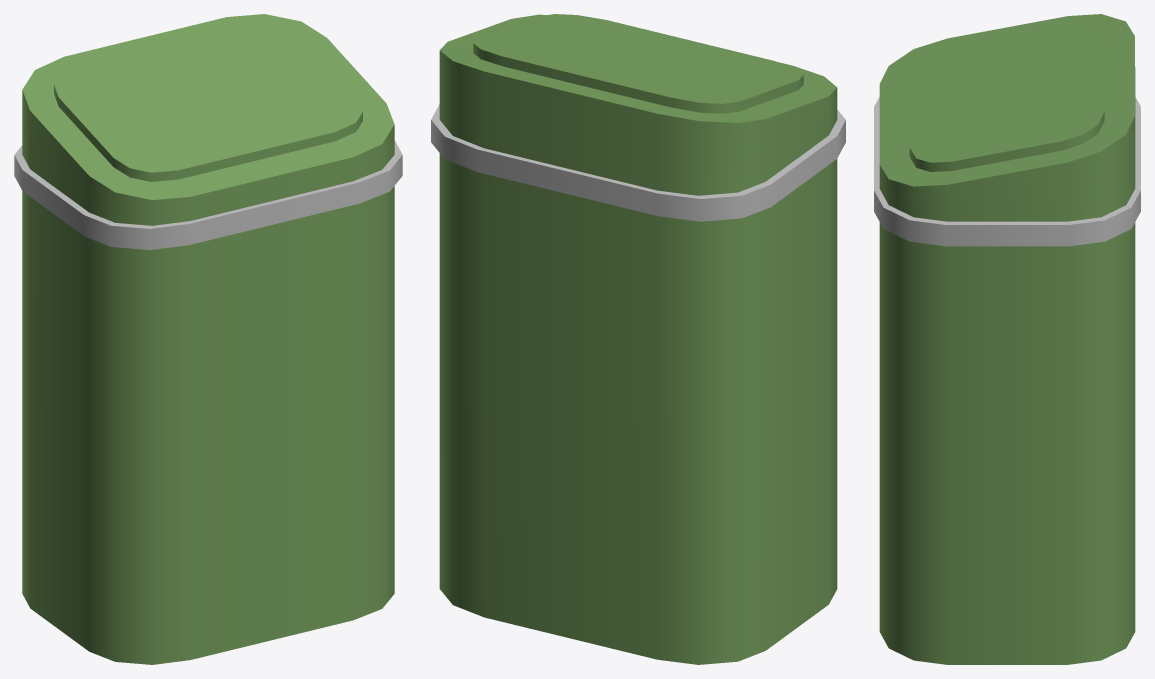
Rendered from TrashCan_01.fbx.
The picture shows the model from 3 angles, left to right: view 1: azimuth 30°, elevation 25°; view 2: azimuth 150°, elevation 25°; view 3: azimuth 270°, elevation 25°; orthographic projection. The views are drawn at different scales.
Parts seen in each view (by area): view 1: TrashCan_01, TrashCan_01_Lid; view 2: TrashCan_01, TrashCan_01_Lid; view 3: TrashCan_01, TrashCan_01_Lid.
Boxes of the visible parts, x1=… form: TrashCan_01: x1=14, y1=14, x2=402, y2=664; TrashCan_01_Lid: x1=54, y1=23, x2=362, y2=181; TrashCan_01: x1=431, y1=14, x2=845, y2=664; TrashCan_01_Lid: x1=473, y1=14, x2=803, y2=113; TrashCan_01: x1=874, y1=14, x2=1140, y2=664; TrashCan_01_Lid: x1=909, y1=19, x2=1104, y2=171.
Size of the model in its own units: 0.2932 by 0.4646 by 0.2165.
